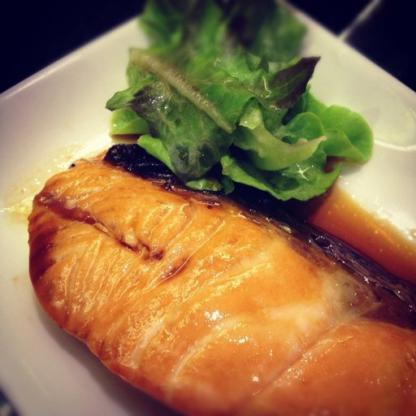salmon: (33, 161, 415, 415)
